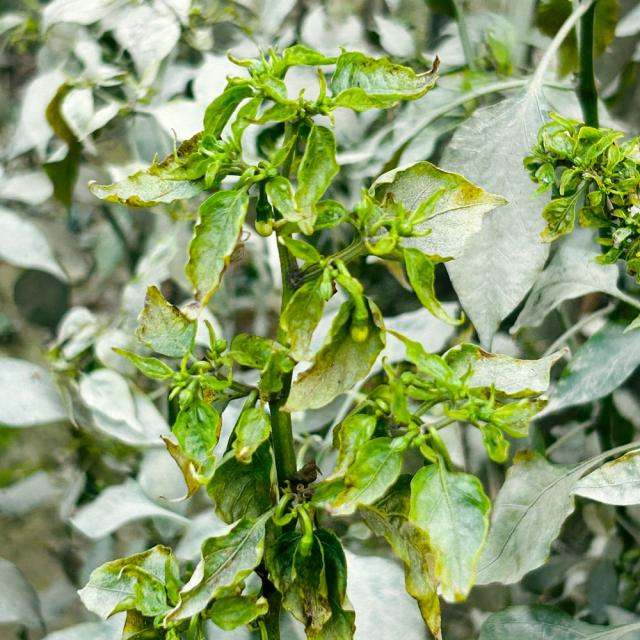Chilli_Leaf_Curl: (65, 28, 636, 638), (522, 110, 639, 284), (359, 160, 508, 264), (279, 292, 387, 413), (405, 458, 492, 604)
